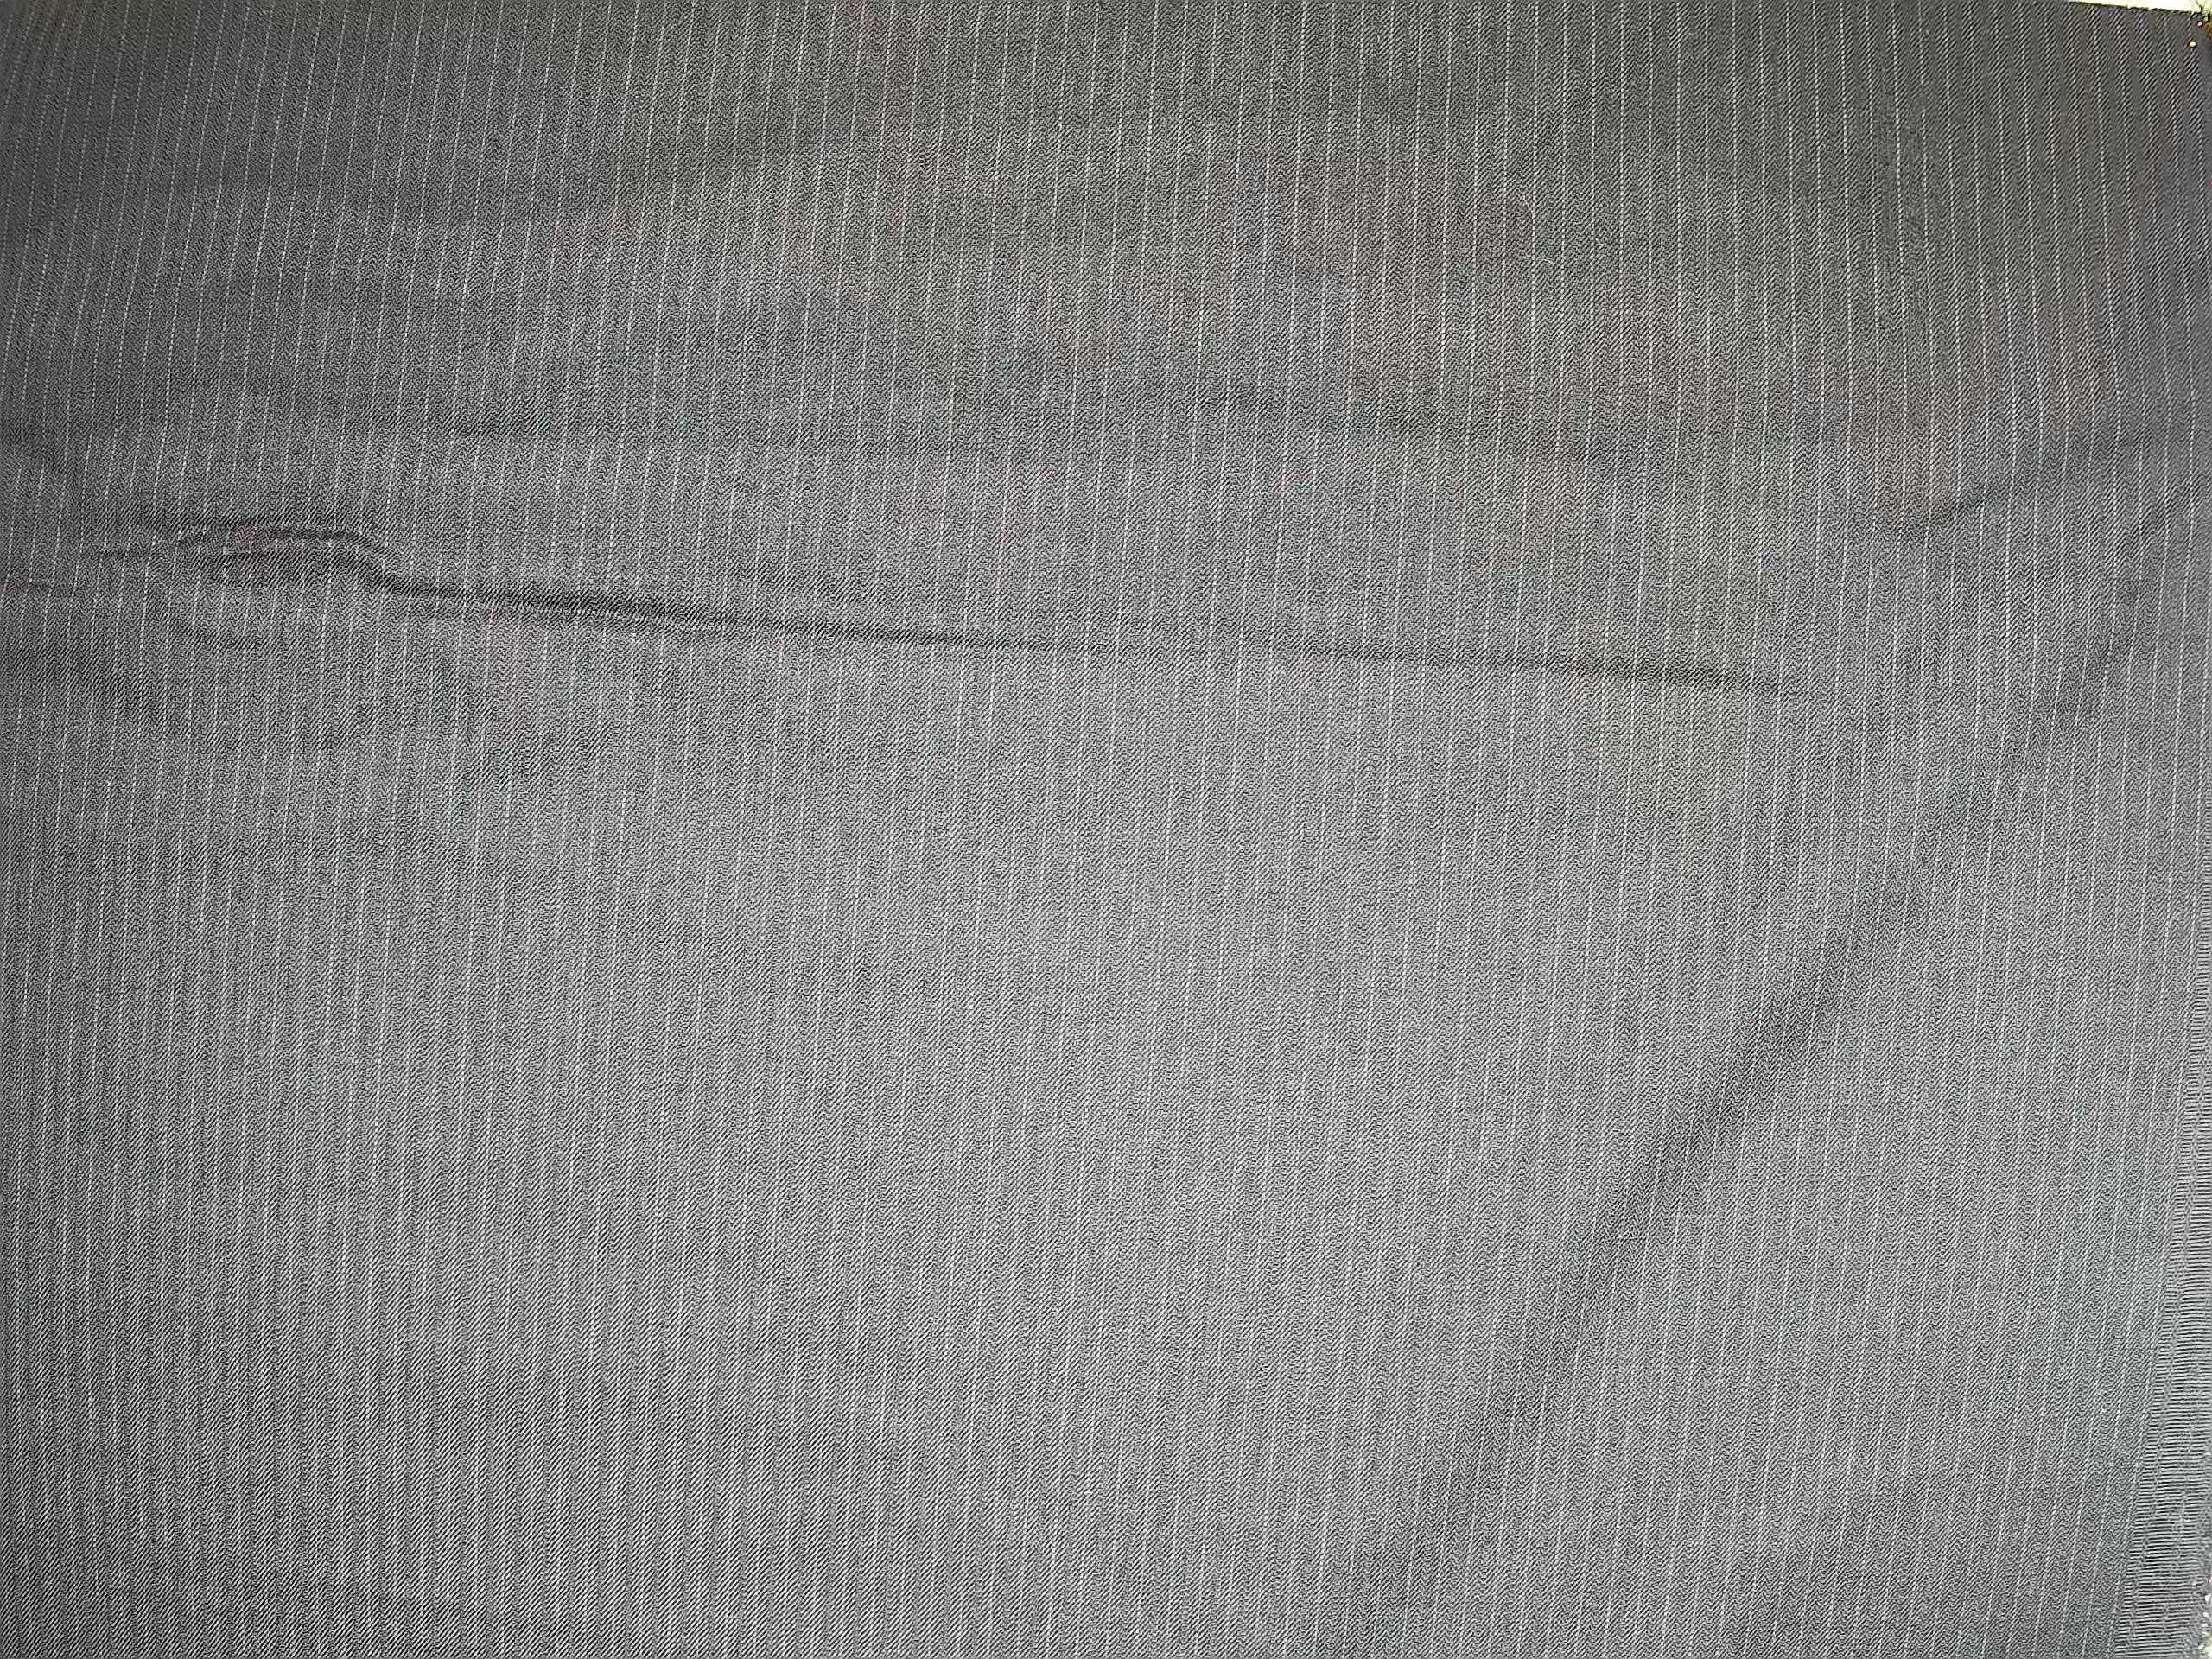jumps: (1864, 17, 1972, 443)
